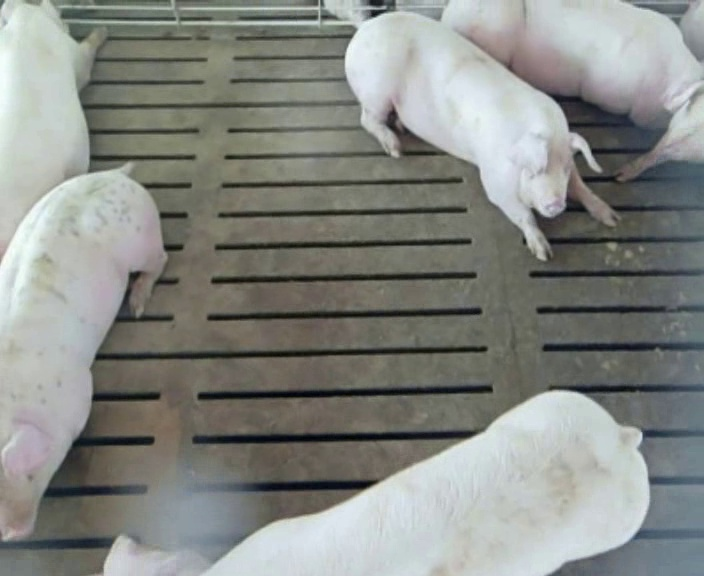pig: (104, 392, 649, 573), (346, 12, 617, 260), (0, 168, 165, 539), (442, 2, 703, 126), (0, 3, 104, 257), (616, 82, 703, 181)
